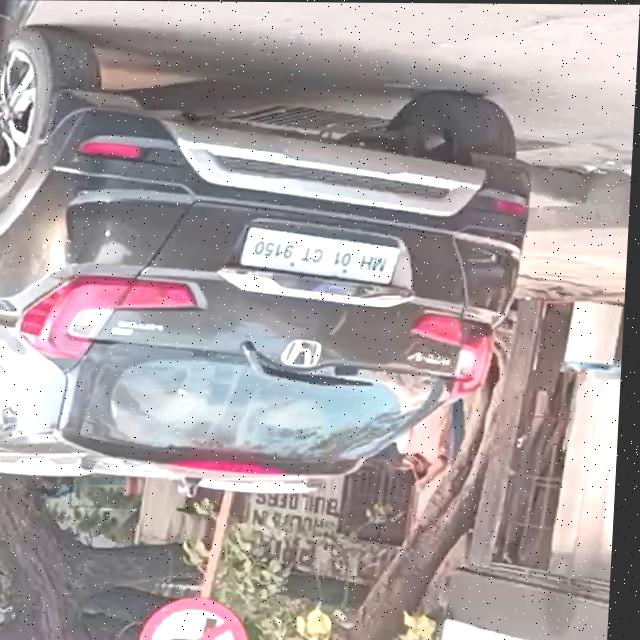plate: (242, 226, 403, 283)
